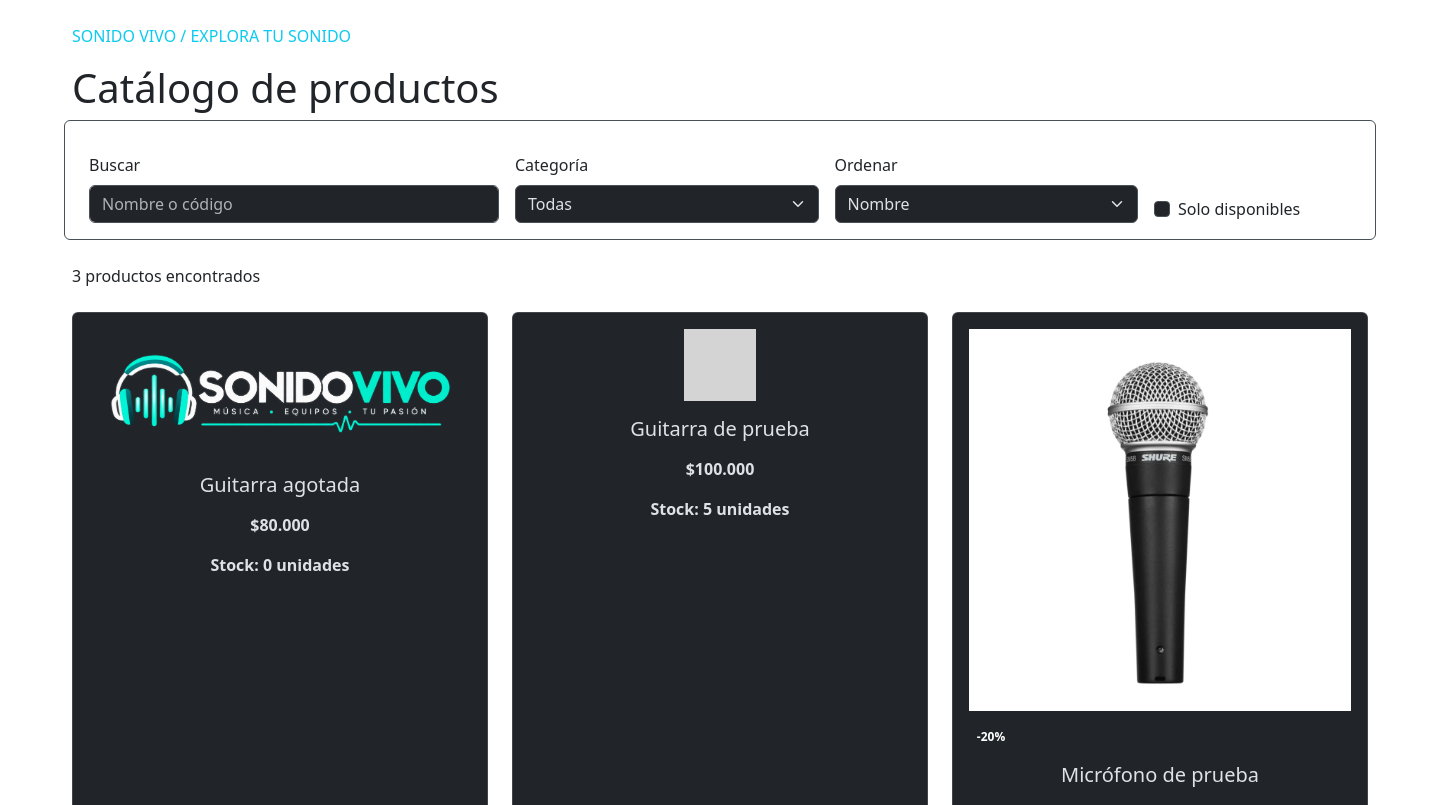
Test: Pruebas del catálogo › busca por código y avisa cuando no encuentra productos
In the search field labelled "Buscar": (294, 204) [89,185,499,223], type "MIC001"
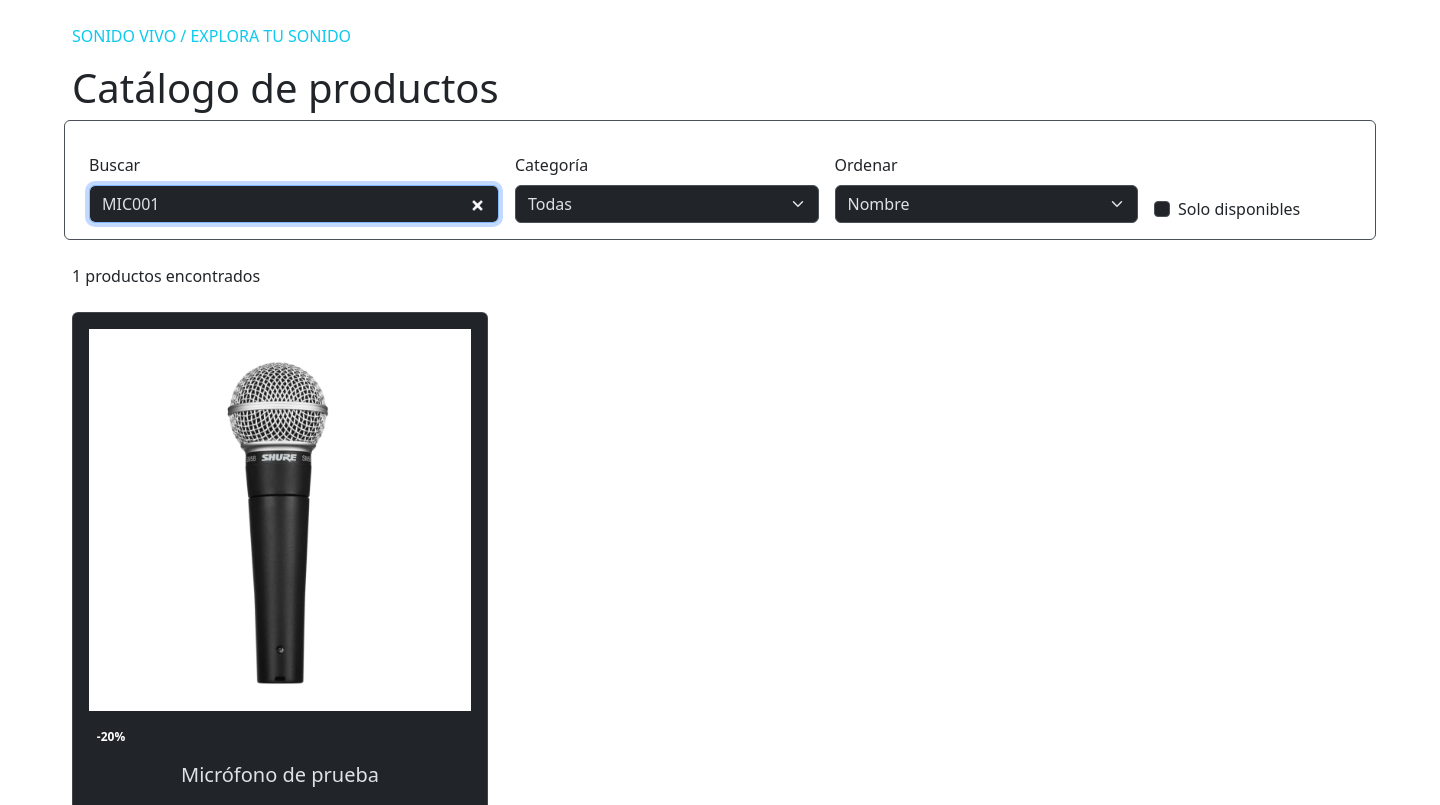
Expected: the heading "Micrófono de prueba" is shown, [181,761,379,788]
Expected: the heading "Guitarra de prueba" is gone
Replace the text in the search field labelled "Buscar" with "producto inexistente": (294, 204) [89,185,499,223]
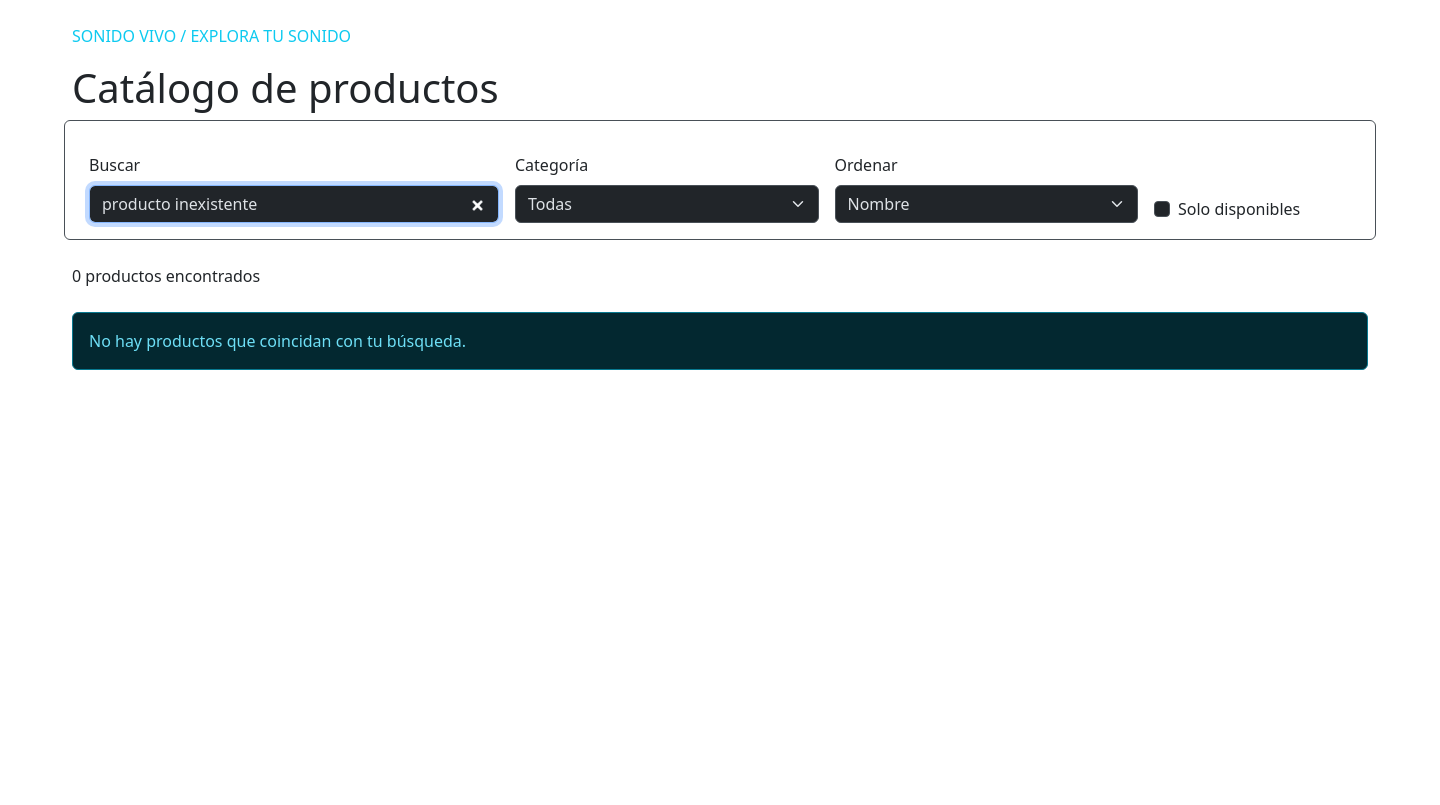
Expected: the text "No hay productos que coincidan con tu búsqueda." is shown, [72,312,1368,370]
